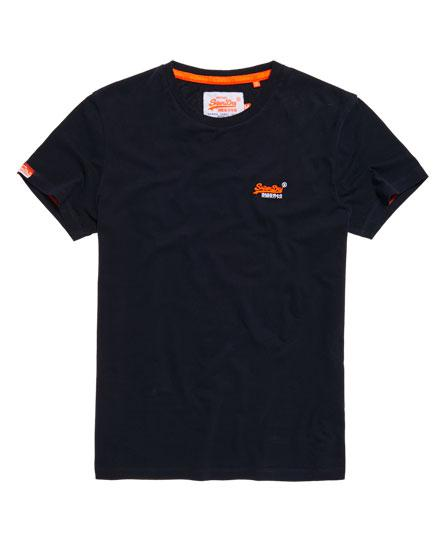teeshirt: (22, 43, 440, 499)
